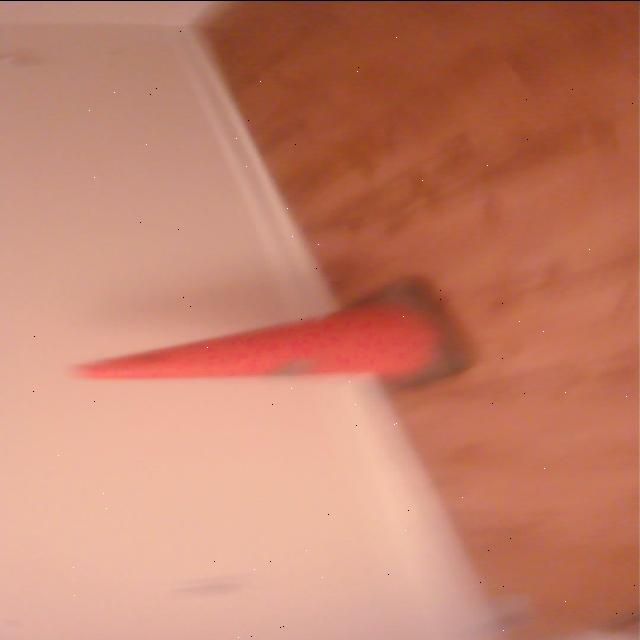traffic cone: (67, 273, 479, 394)
